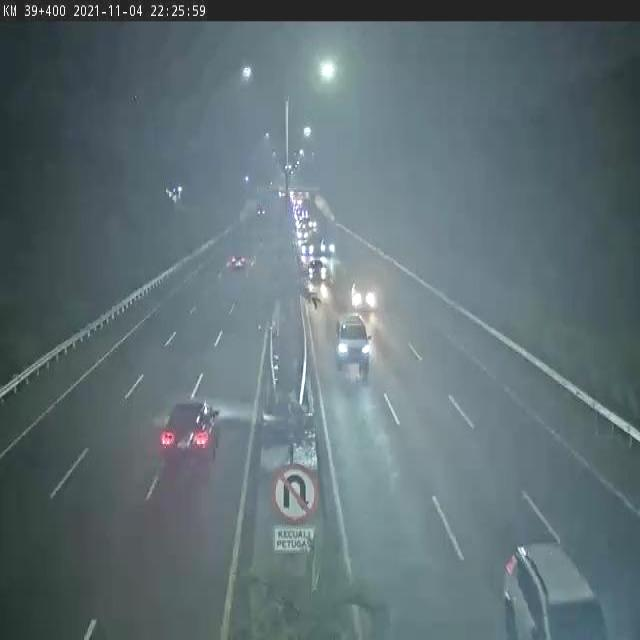Car: (494, 530, 600, 640), (155, 391, 222, 484), (224, 233, 258, 280), (352, 278, 377, 312), (307, 258, 329, 285), (320, 235, 336, 258), (299, 240, 316, 258)
Van: (335, 309, 375, 375)
